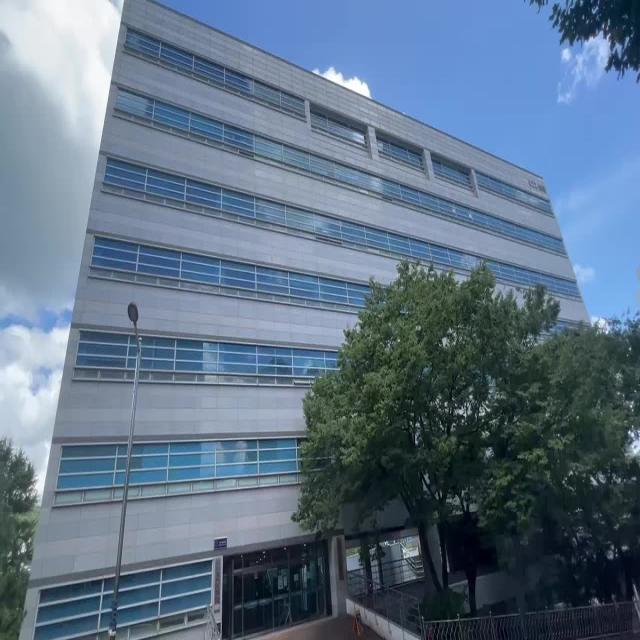building: (83, 11, 292, 640)
